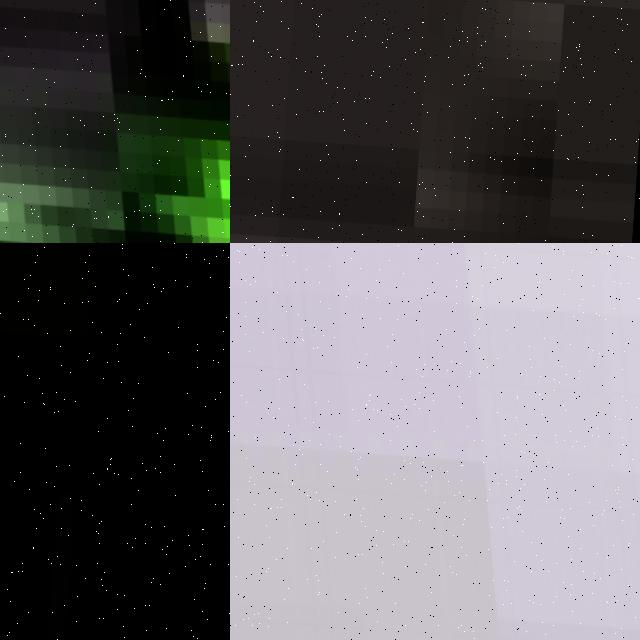drone: (230, 243, 640, 640), (0, 0, 230, 243)
